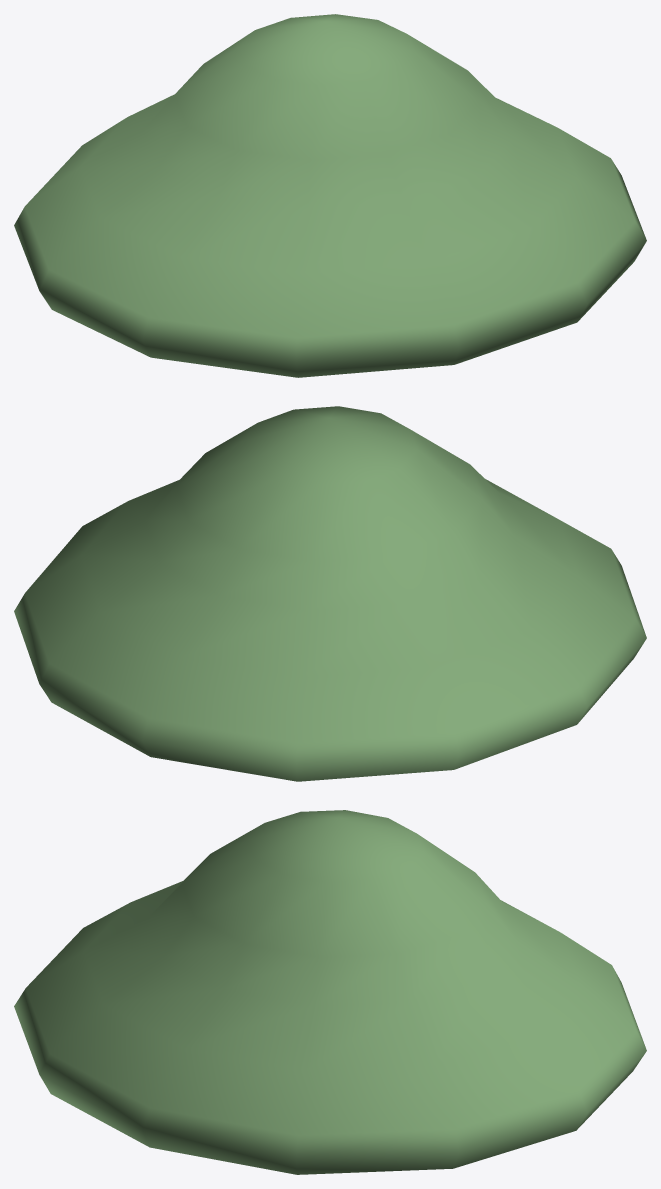
The model's file is Sombrero_4.fbx.
The picture shows the model from 3 angles, top to bottom: view 1: azimuth 30°, elevation 25°; view 2: azimuth 150°, elevation 25°; view 3: azimuth 270°, elevation 25°; orthographic projection.
Visible parts, largest first — view 1: Sombrero_4; view 2: Sombrero_4; view 3: Sombrero_4.
Part boxes in pixels (bbox=[...]): Sombrero_4: bbox=[14, 14, 646, 377]; Sombrero_4: bbox=[14, 406, 646, 781]; Sombrero_4: bbox=[14, 810, 646, 1174].
Size of the model in its own units: 0.8939 by 0.3778 by 0.8936.
